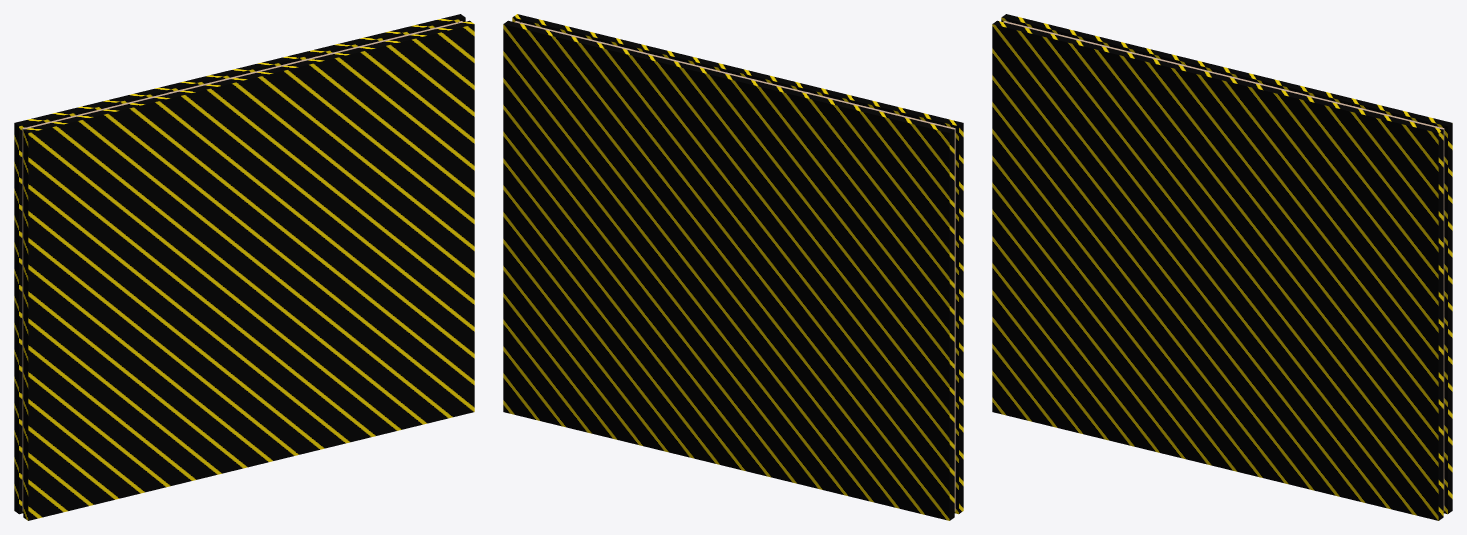
The model's file is WALLSET_Q.FBX.
3 views of the same model, side by side, from view 1: azimuth 30°, elevation 25°; view 2: azimuth 150°, elevation 25°; view 3: azimuth 330°, elevation 25° (orthographic).
Parts seen in each view (by area): view 1: SELECTOR_11, FRAME_28; view 2: SELECTOR_11, FRAME_28; view 3: SELECTOR_11, FRAME_28.
Part boxes in pixels (x1,y1,x2,y2): SELECTOR_11: (14, 14, 474, 520); FRAME_28: (22, 21, 463, 511); SELECTOR_11: (503, 14, 963, 520); FRAME_28: (514, 21, 955, 511); SELECTOR_11: (992, 14, 1452, 520); FRAME_28: (1003, 21, 1444, 511).
Bounding box in the file's own units: 109 × 90.28 × 5.88.
